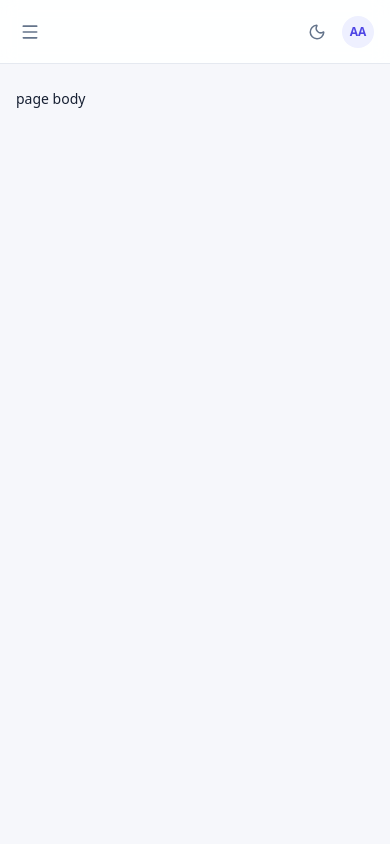
Test case: DashboardLayout responsive navigation and shell › opens the mobile drawer from the menu button and closes it with Escape
Later steps or results of the test are not shown.
Click the button named "Open navigation menu" at (30, 32), box [12,14,48,50]
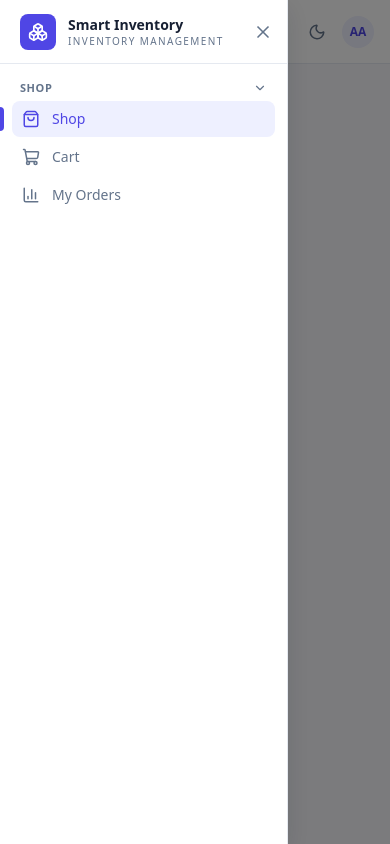
Check: the dialog named "Navigation menu" is shown
